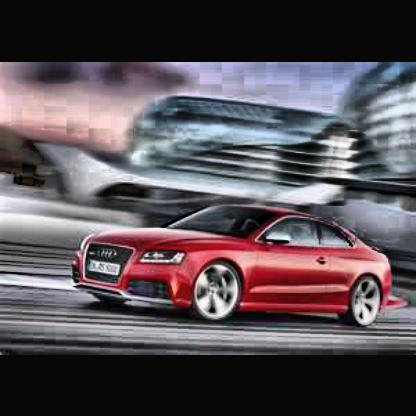Audi S5 Coupe 2012: (72, 205, 395, 328)
